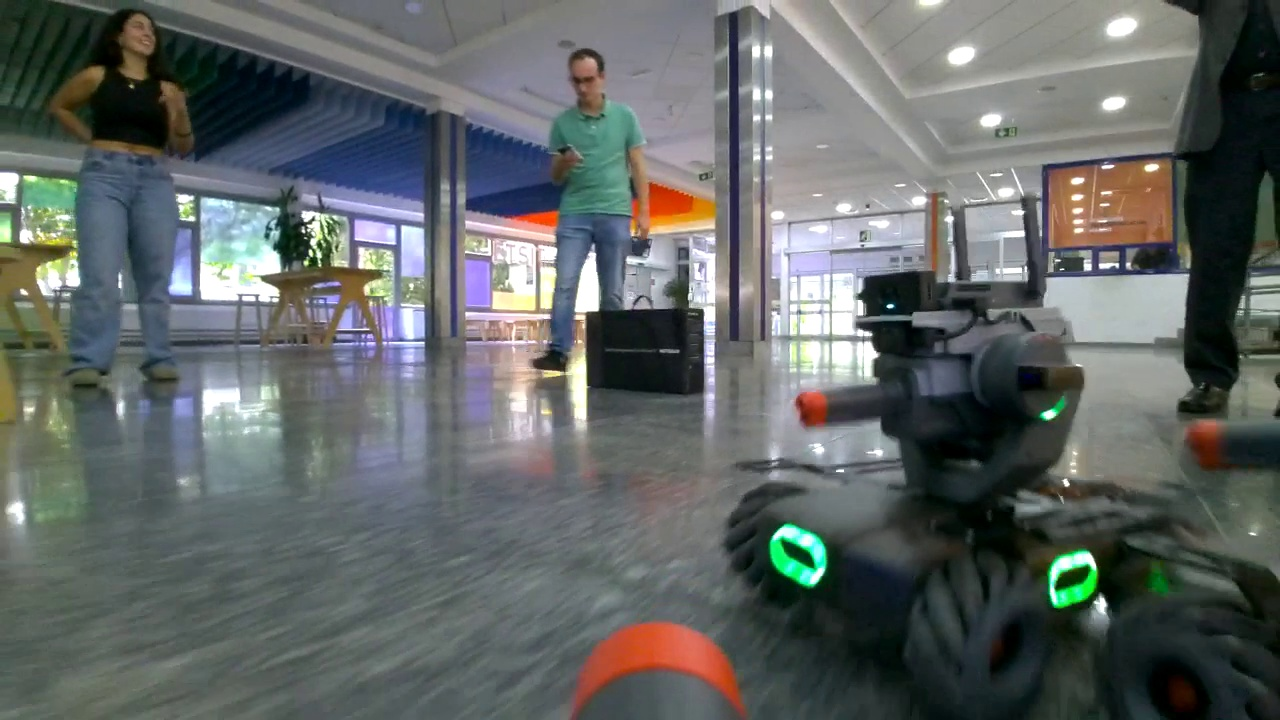robot: (727, 257, 1203, 715)
